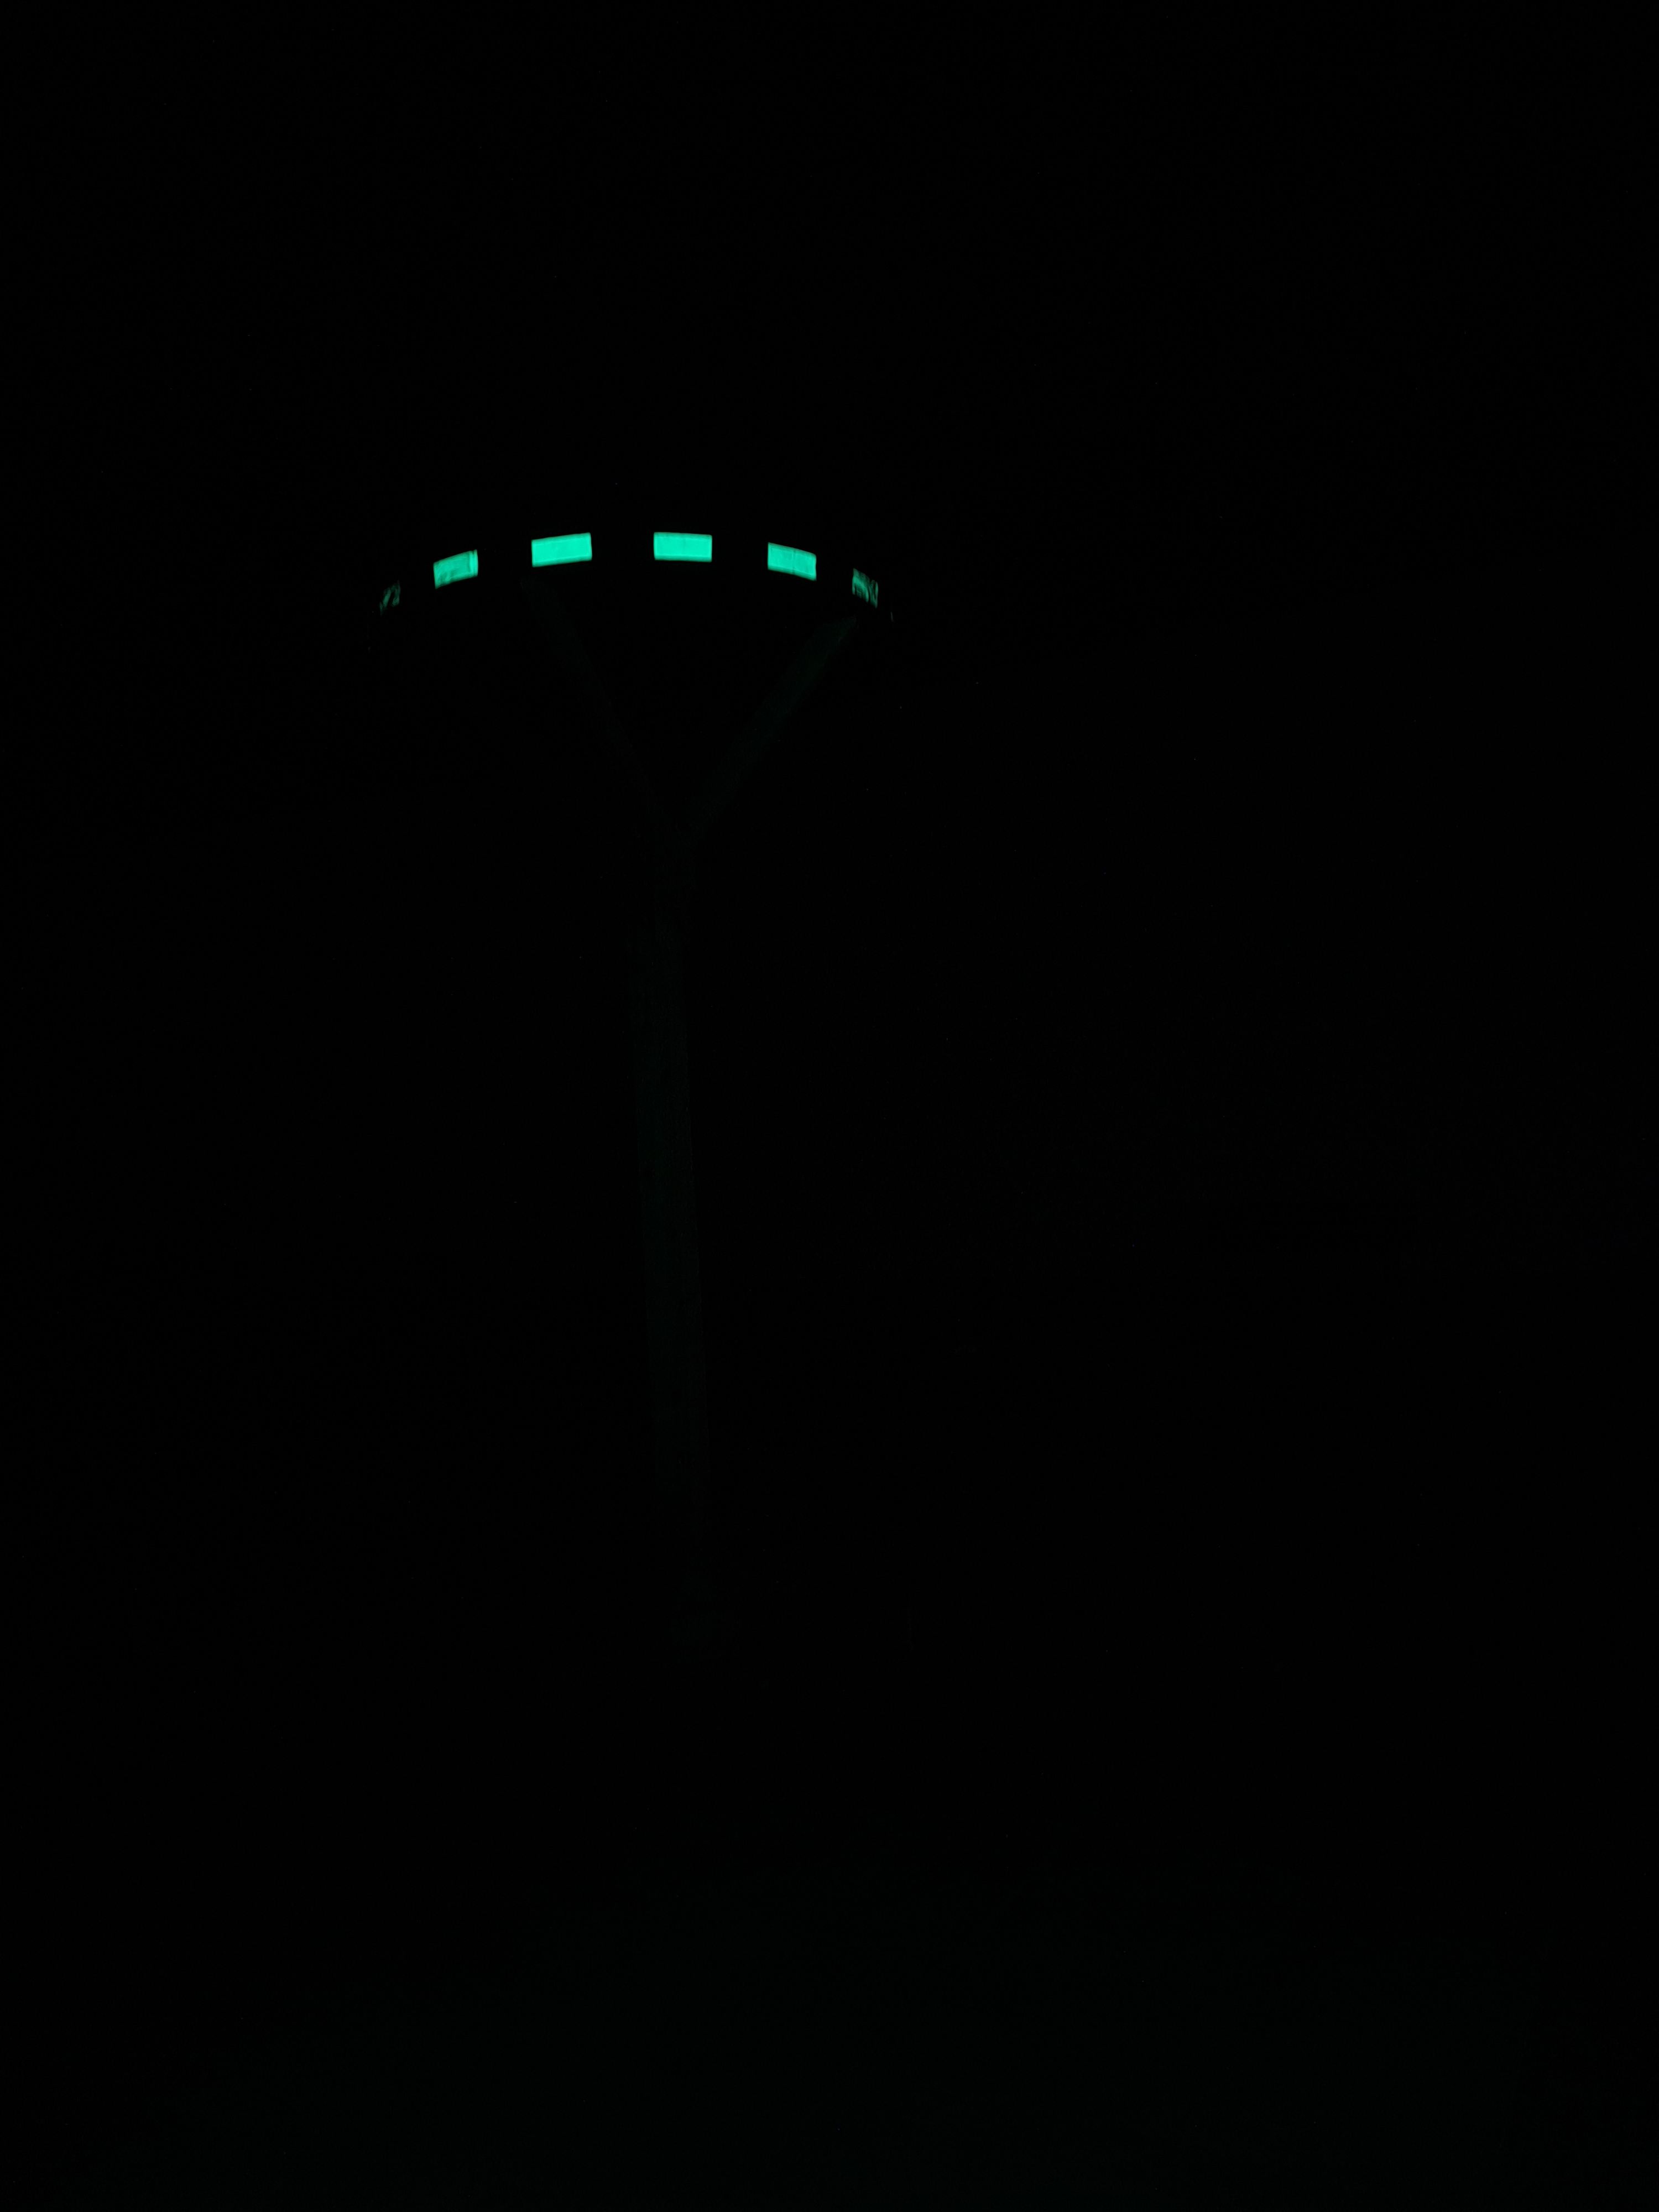hoop: (368, 524, 890, 615)
